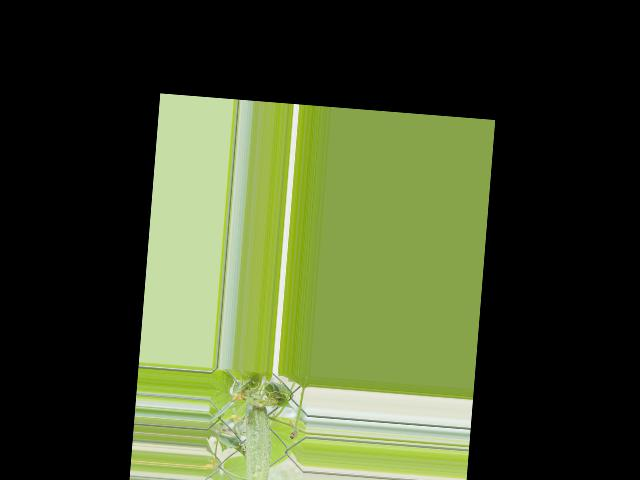cucumber: (239, 398, 275, 480)
